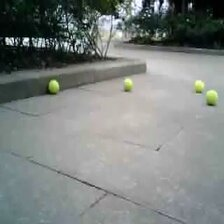tennis: (47, 79, 60, 93), (205, 89, 218, 103), (123, 77, 133, 89), (193, 80, 203, 91)
